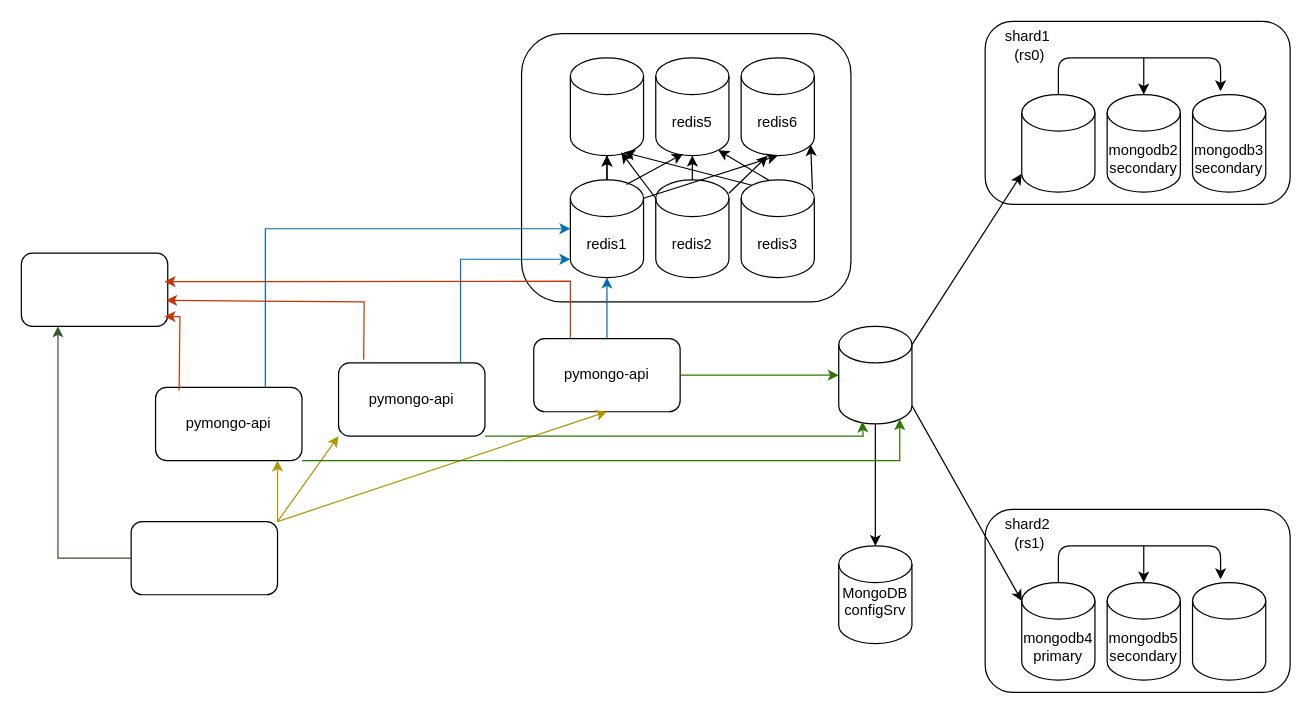
Image size: 1312x714. Some labels were removed from this diagram. The box of each missing label's shape, as (x1, y1, x2, y2) in pixels:
API-Gateway: (130, 520, 278, 595)
Consul: (20, 252, 168, 326)
MongoDB mongos_router: (838, 325, 912, 424)
mongodb1 primary: (1021, 93, 1095, 192)
mongodb6 secondary: (1191, 581, 1266, 680)
redis4: (569, 57, 644, 156)
